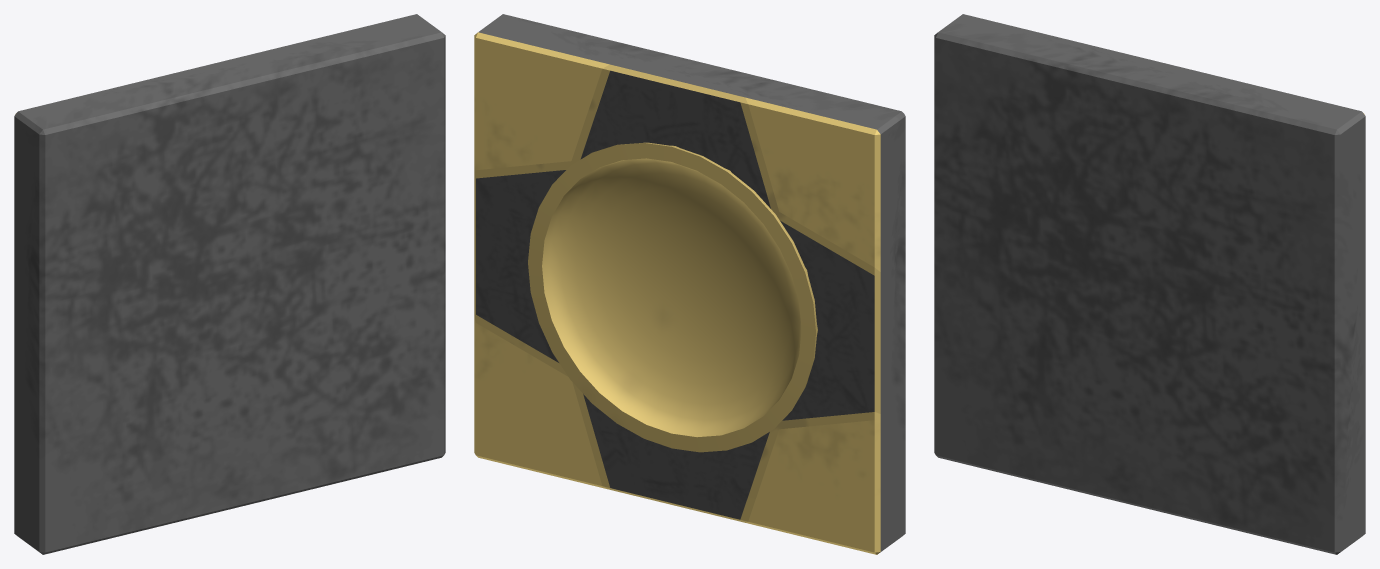
The model's file is ObjectTray.fbx.
3 renders of one model, left to right at view 1: azimuth 30°, elevation 25°; view 2: azimuth 150°, elevation 25°; view 3: azimuth 330°, elevation 25°, orthographic.
Visible parts, largest first — view 1: ObjectTray_01; view 2: ObjectTray_01, ObjectTray_02; view 3: ObjectTray_01.
Boxes of the visible parts, bbox=[...] form: ObjectTray_01: bbox=[14, 14, 445, 554]; ObjectTray_01: bbox=[474, 14, 905, 554]; ObjectTray_02: bbox=[528, 142, 817, 452]; ObjectTray_01: bbox=[934, 14, 1365, 554].
Bounding box in the file's own units: 4 × 4 × 0.5603.
